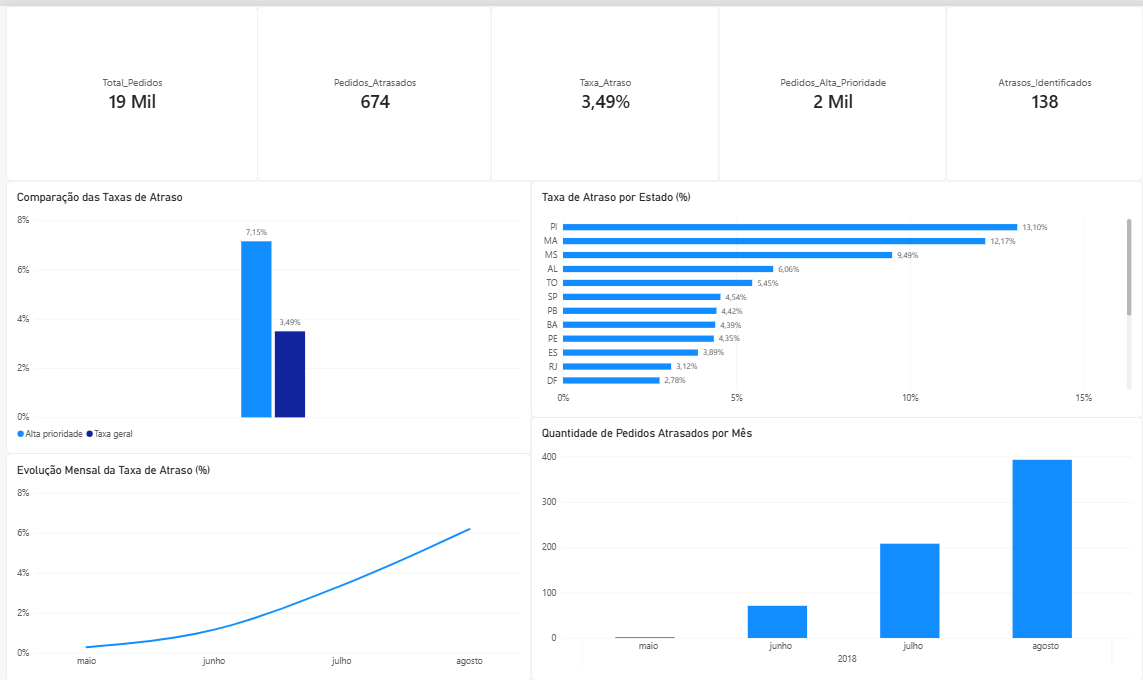

What the dashboard file says about the page in this screenshot:
{"tool":"powerbi","page":{"name":"Análise Operacional","canvas":[1920,1080],"ordinal":0},"visuals":[{"type":"cardVisual","fields":{"Data":["foodops_ai_dashboard.Total_Pedidos"]},"box":[10,0,402,280],"z":0},{"type":"cardVisual","fields":{"Data":["foodops_ai_dashboard.Pedidos_Atrasados"]},"box":[412,0,374,280],"z":1},{"type":"cardVisual","fields":{"Data":["foodops_ai_dashboard.Taxa_Atraso"]},"box":[786,0,364,280],"z":2},{"type":"cardVisual","fields":{"Data":["foodops_ai_dashboard.Pedidos_Alta_Prioridade"]},"box":[1150,0,364,280],"z":3},{"type":"cardVisual","fields":{"Data":["foodops_ai_dashboard.Atrasos_Identificados"]},"box":[1514,0,314,280],"z":4},{"type":"clusteredColumnChart","title":"Comparação das Taxas de Atraso","fields":{"Y":["foodops_ai_dashboard.Taxa_Atraso_Alta_Prioridade","foodops_ai_dashboard.Taxa_Atraso"]},"box":[10,280,840,436],"z":5},{"type":"clusteredBarChart","title":"Taxa de Atraso por Estado (%)","fields":{"Category":["foodops_ai_dashboard.customer_state"],"Y":["foodops_ai_dashboard.Taxa_Atraso"]},"box":[850,280,978,378],"z":6},{"type":"lineChart","title":"Evolução Mensal da Taxa de Atraso (%)","fields":{"Category":["foodops_ai_dashboard.order_purchase_timestamp.Variação.Hierarquia de datas.Ano","foodops_ai_dashboard.order_purchase_timestamp.Variação.Hierarquia de datas.Mês"],"Y":["foodops_ai_dashboard.Taxa_Atraso"]},"box":[10,716,840,364],"z":7},{"type":"clusteredColumnChart","title":"Quantidade de Pedidos Atrasados por Mês","fields":{"Category":["foodops_ai_dashboard.order_purchase_timestamp.Variação.Hierarquia de datas.Ano","foodops_ai_dashboard.order_purchase_timestamp.Variação.Hierarquia de datas.Mês"],"Y":["foodops_ai_dashboard.Pedidos_Atrasados"]},"box":[850,658,978,422],"z":8}]}

Visuals, with their boxes on the page's 1920x1080 design canvas (x1, y1, x2, y2). These are canvas units, not pixel positions in the 1143x680 screenshot, which may show the page scaled, cropped or inside an application window:
cardVisual - foodops_ai_dashboard.Total_Pedidos: (left=10, top=0, right=412, bottom=280)
cardVisual - foodops_ai_dashboard.Pedidos_Atrasados: (left=412, top=0, right=786, bottom=280)
cardVisual - foodops_ai_dashboard.Taxa_Atraso: (left=786, top=0, right=1150, bottom=280)
cardVisual - foodops_ai_dashboard.Pedidos_Alta_Prioridade: (left=1150, top=0, right=1514, bottom=280)
cardVisual - foodops_ai_dashboard.Atrasos_Identificados: (left=1514, top=0, right=1828, bottom=280)
"Comparação das Taxas de Atraso" clusteredColumnChart: (left=10, top=280, right=850, bottom=716)
"Taxa de Atraso por Estado (%)" clusteredBarChart: (left=850, top=280, right=1828, bottom=658)
"Evolução Mensal da Taxa de Atraso (%)" lineChart: (left=10, top=716, right=850, bottom=1080)
"Quantidade de Pedidos Atrasados por Mês" clusteredColumnChart: (left=850, top=658, right=1828, bottom=1080)
